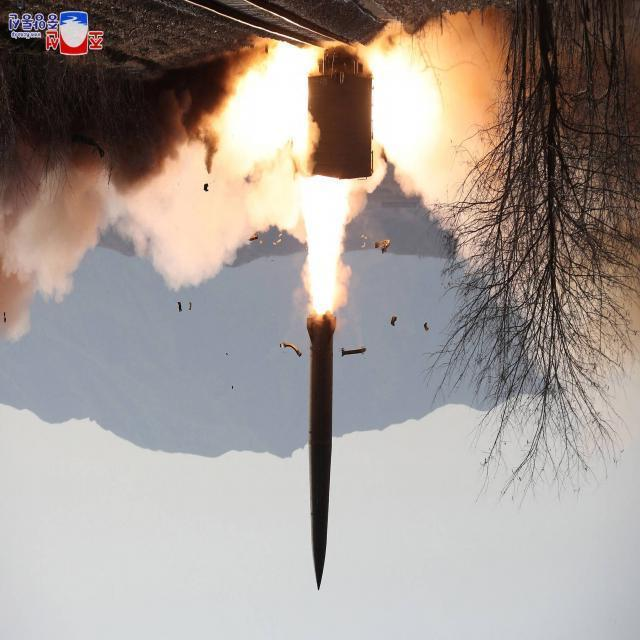Missile: (301, 304, 339, 603)
